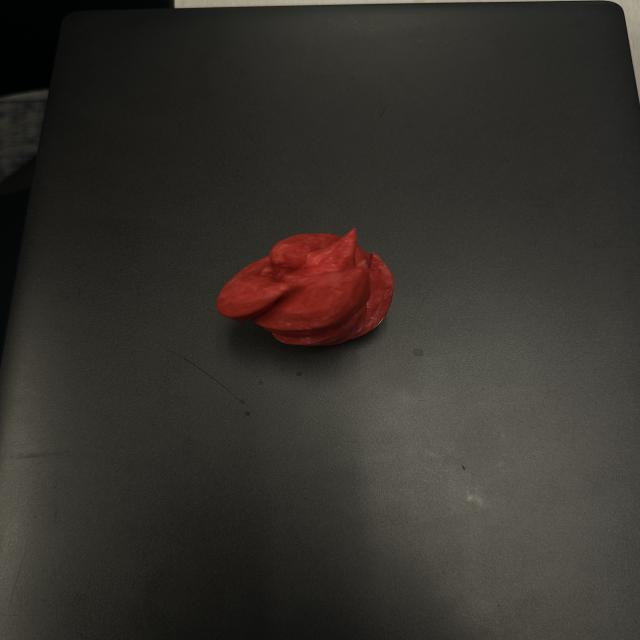fire: (213, 225, 397, 348)
